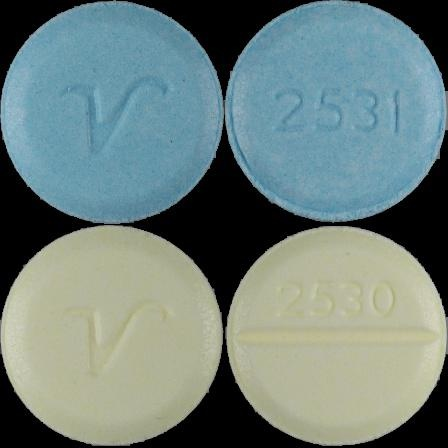63629-1340: (0, 0, 224, 224)
